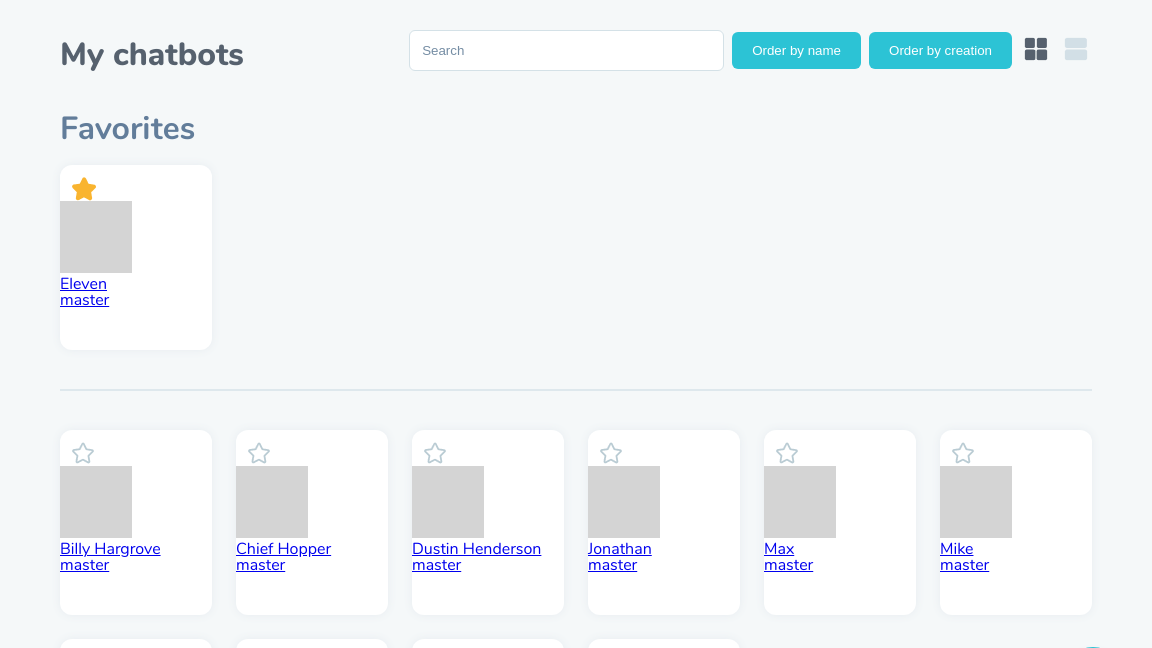
Test case: MyChatbots component › Should show noContent message
Type "Some text that don't return results" into the field with test id "input-search" at (567, 50), box 409,30 -> 724,71
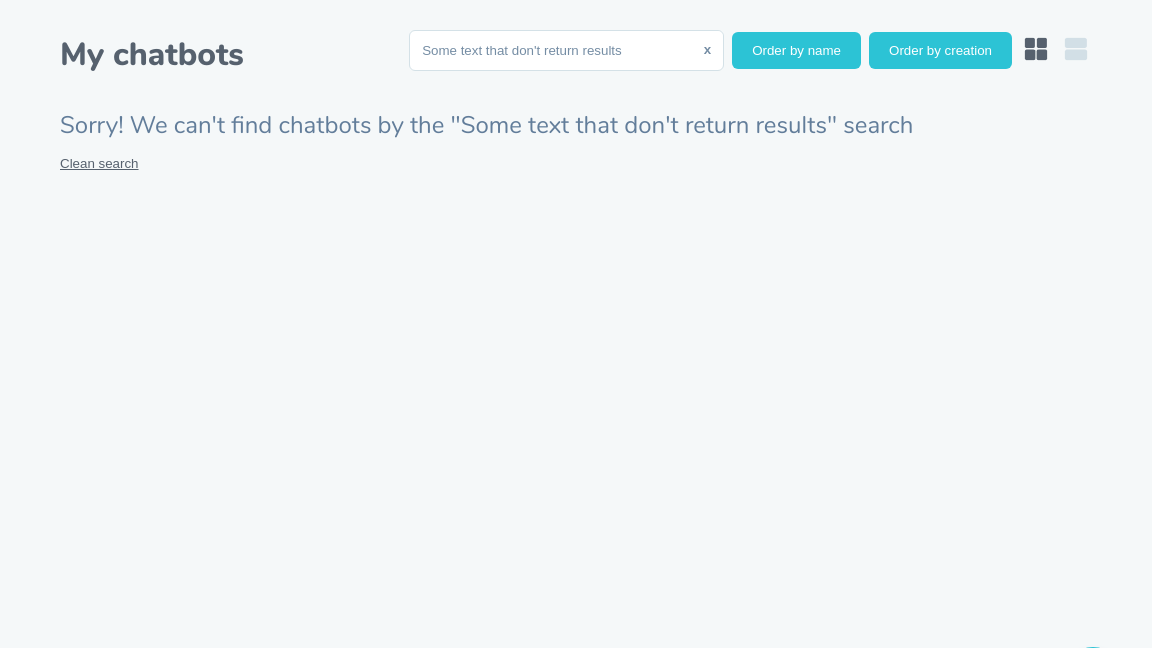
Check: the element with test id "div-favorites" is gone
Check: the element with test id "div-no-content" is shown, box 60,109 -> 914,170
